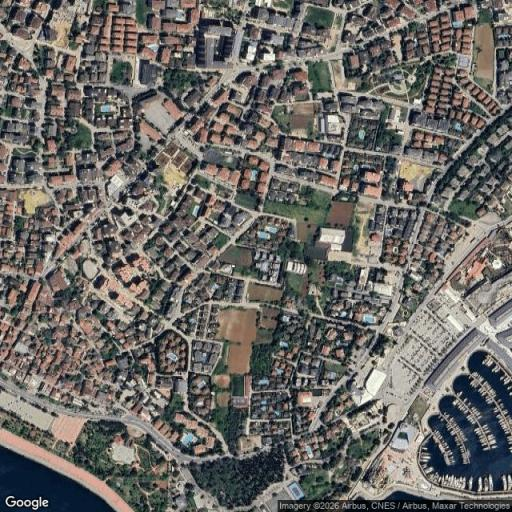ship: (441, 413, 470, 464), (454, 392, 480, 424), (495, 400, 511, 451), (432, 430, 455, 465), (471, 374, 495, 403), (476, 426, 492, 450), (482, 425, 496, 450), (461, 446, 470, 464), (483, 355, 494, 366), (482, 424, 492, 435), (420, 453, 431, 462), (504, 475, 510, 490), (430, 472, 438, 483), (432, 472, 440, 483), (473, 408, 481, 419), (435, 473, 443, 484), (488, 474, 493, 491), (459, 477, 466, 489), (500, 376, 510, 384), (457, 477, 464, 488), (446, 476, 453, 487), (502, 475, 507, 490), (484, 476, 489, 491), (484, 395, 492, 404), (490, 436, 496, 448), (505, 475, 510, 489), (452, 478, 459, 488), (450, 476, 456, 487), (462, 478, 468, 489), (425, 466, 433, 474), (442, 475, 449, 484), (504, 376, 511, 385), (440, 475, 447, 484), (444, 476, 450, 486), (478, 477, 482, 492), (468, 477, 472, 491), (500, 375, 507, 383), (420, 454, 427, 462), (450, 475, 455, 486), (456, 478, 462, 487), (453, 479, 459, 488), (456, 478, 461, 488), (508, 435, 511, 451), (492, 366, 500, 372), (508, 475, 511, 490), (507, 384, 511, 394), (492, 367, 499, 372), (456, 392, 463, 397)
